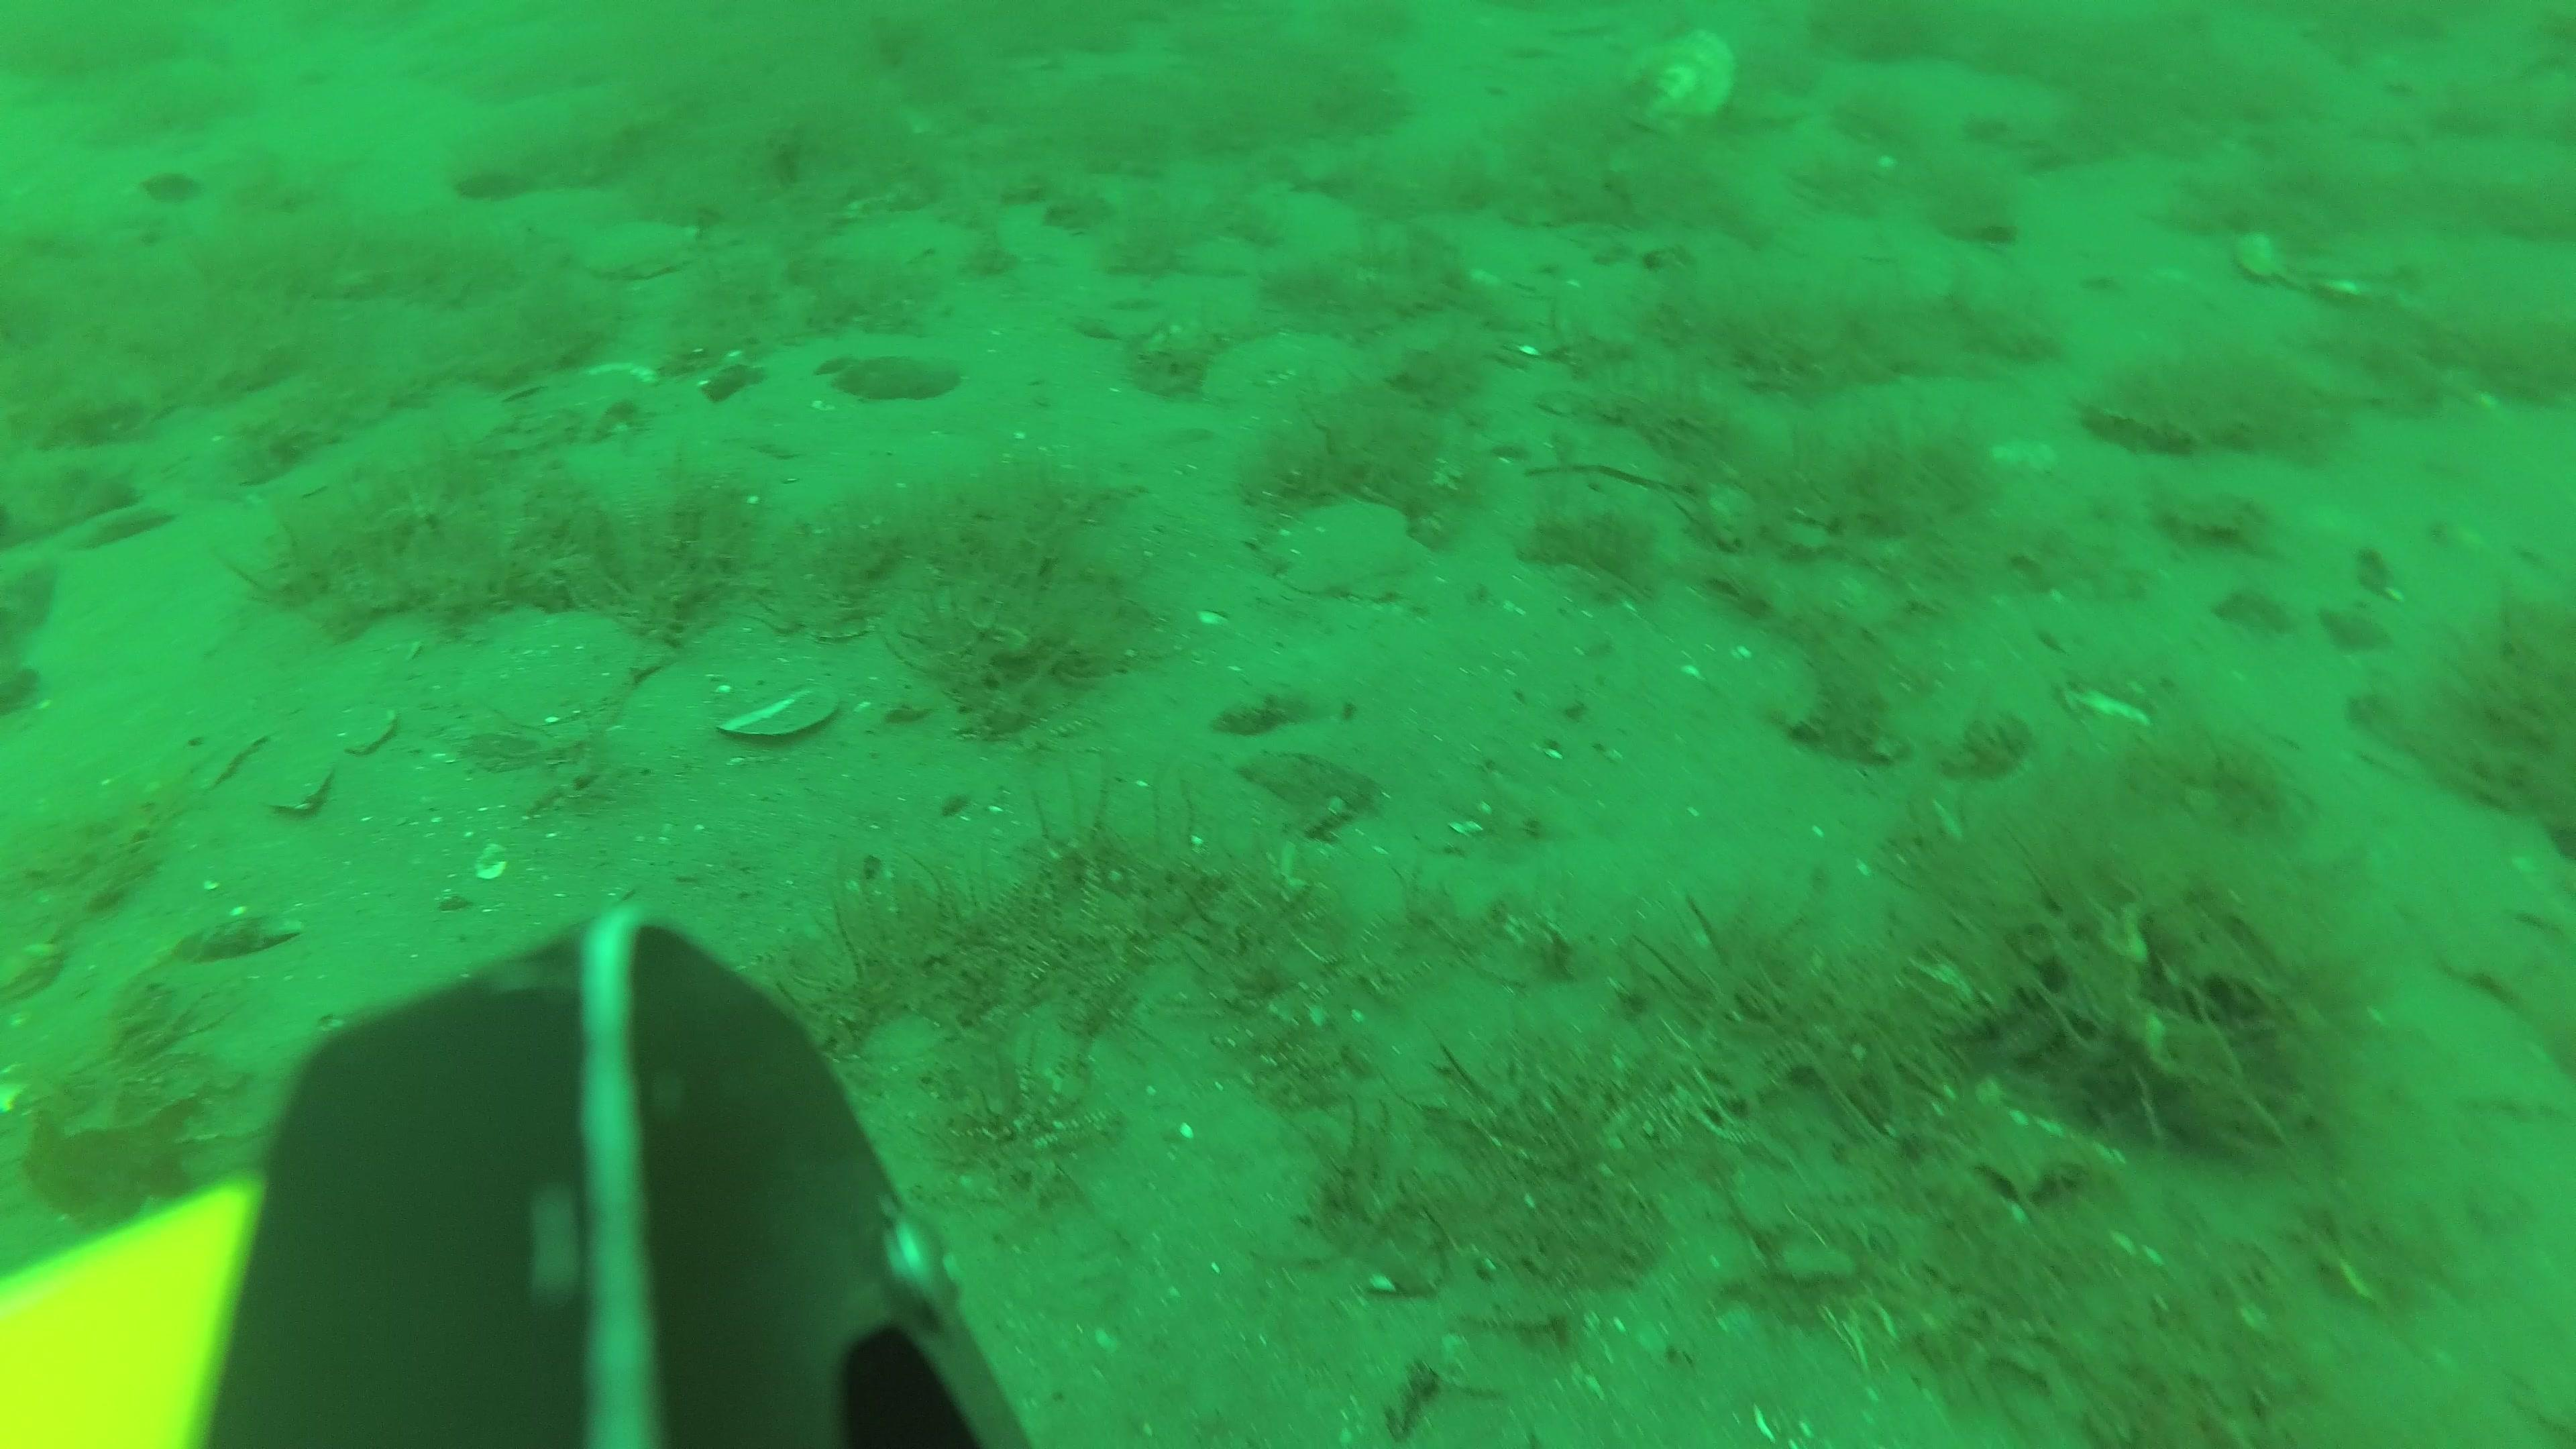scallop: (467, 605, 672, 713), (1269, 504, 1424, 600), (2240, 232, 2406, 303), (1624, 32, 1732, 136), (580, 216, 704, 278)
